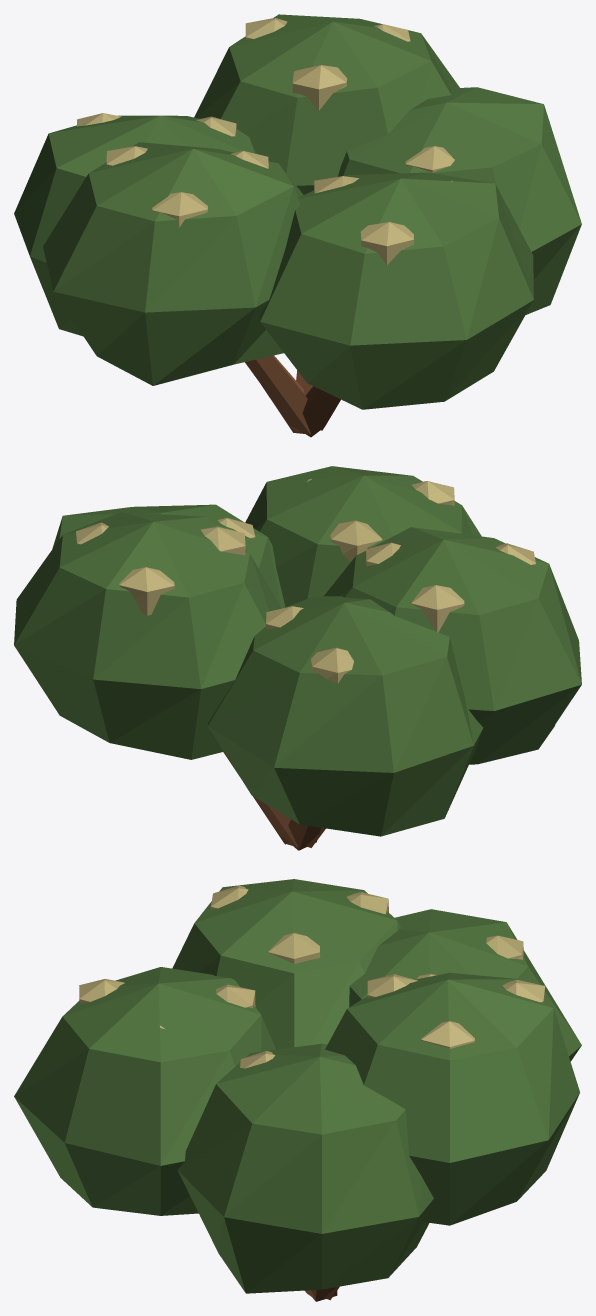
File: Plant_Common_FloweringShrub_001.glb
3 renders of one model, top to bottom at view 1: azimuth 30°, elevation 25°; view 2: azimuth 150°, elevation 25°; view 3: azimuth 270°, elevation 25°, orthographic. The views are drawn at different scales.
Visible parts, largest first — view 1: Plant_Common_FloweringShrub_001; view 2: Plant_Common_FloweringShrub_001; view 3: Plant_Common_FloweringShrub_001.
Boxes of the visible parts, x1,y1,x2,y2 form: Plant_Common_FloweringShrub_001: [14, 14, 581, 437]; Plant_Common_FloweringShrub_001: [14, 466, 581, 850]; Plant_Common_FloweringShrub_001: [14, 879, 581, 1301].
Size of the model in its own units: 2.16 by 1.35 by 1.93.
